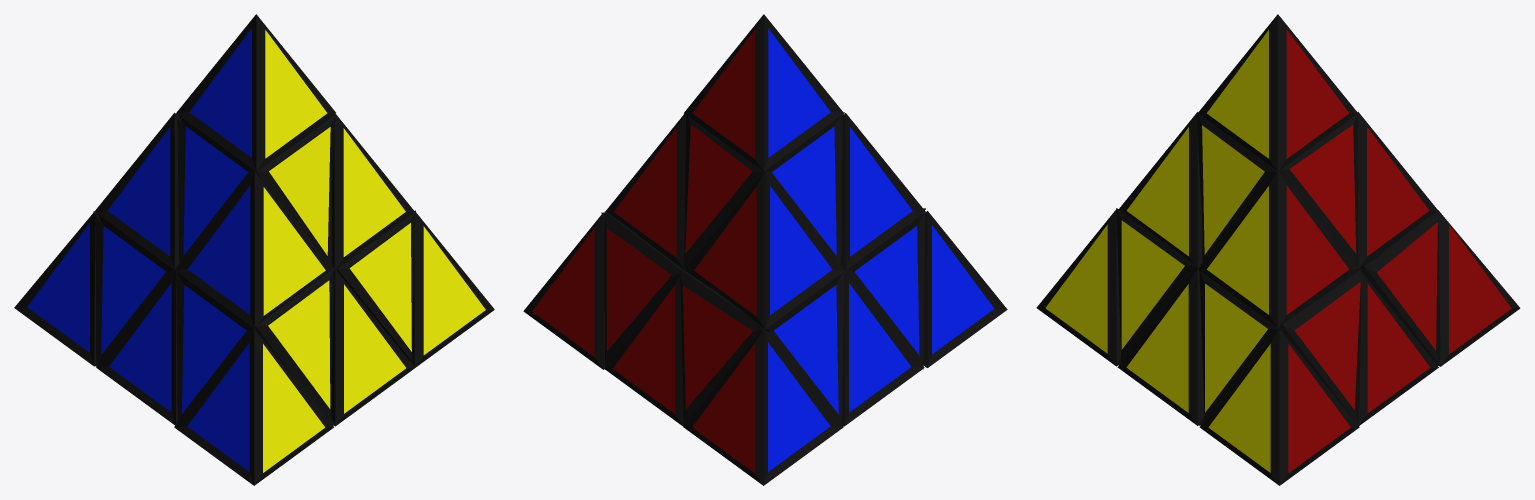
The model's file is 3x3Pyraminx.obj.
The picture shows the model from 3 angles, left to right: view 1: azimuth 30°, elevation 25°; view 2: azimuth 150°, elevation 25°; view 3: azimuth 270°, elevation 25°; orthographic projection.
Parts seen in each view (by area): view 1: BlueYellowGreen, RedBlueYellow, BlueYellow, BlueRed, YellowGreen, YellowRed, YellowRedGreen, BlueGreen, RedBlueGreen, YellowCenterL, BlueCenterL, YellowCenterR (+3 smaller); view 2: RedBlueGreen, RedBlueYellow, BlueRed, BlueYellow, BlueYellowGreen, RedCenterR, YellowRedGreen, BlueGreen, RedCenterL, YellowRed, RedCenter, BlueCenterR (+3 smaller); view 3: YellowRedGreen, RedBlueYellow, YellowRed, YellowGreen, BlueYellowGreen, RedCenterL, BlueYellow, RedCenterR, RedBlueGreen, BlueRed, YellowCenterL, RedCenter (+3 smaller).
Boxes of the visible parts, left/top/right/bottom form: BlueYellowGreen: left=174, top=328, right=333, bottom=485; RedBlueYellow: left=176, top=14, right=335, bottom=171; BlueYellow: left=175, top=171, right=332, bottom=328; BlueRed: left=94, top=113, right=179, bottom=269; YellowGreen: left=331, top=269, right=414, bottom=426; YellowRed: left=331, top=114, right=414, bottom=269; YellowRedGreen: left=411, top=211, right=494, bottom=367; BlueGreen: left=96, top=271, right=177, bottom=425; RedBlueGreen: left=14, top=212, right=96, bottom=366; YellowCenterL: left=254, top=268, right=334, bottom=421; BlueCenterL: left=95, top=214, right=174, bottom=366; YellowCenterR: left=336, top=210, right=415, bottom=361; RedBlueGreen: left=683, top=328, right=843, bottom=485; RedBlueYellow: left=684, top=14, right=843, bottom=171; BlueRed: left=685, top=171, right=845, bottom=328; BlueYellow: left=841, top=113, right=925, bottom=270; BlueYellowGreen: left=923, top=211, right=1007, bottom=367; RedCenterR: left=680, top=269, right=770, bottom=425; YellowRedGreen: left=523, top=212, right=604, bottom=369; BlueGreen: left=842, top=271, right=924, bottom=426; RedCenterL: left=604, top=212, right=689, bottom=366; YellowRed: left=605, top=114, right=685, bottom=270; RedCenter: left=684, top=115, right=768, bottom=268; BlueCenterR: left=845, top=212, right=925, bottom=369; YellowRedGreen: left=1199, top=328, right=1359, bottom=485; RedBlueYellow: left=1198, top=14, right=1357, bottom=171; YellowRed: left=1198, top=171, right=1357, bottom=327; YellowGreen: left=1117, top=268, right=1204, bottom=425; BlueYellowGreen: left=1036, top=209, right=1120, bottom=366; RedCenterL: left=1279, top=269, right=1361, bottom=425; BlueYellow: left=1119, top=112, right=1202, bottom=268; RedCenterR: left=1356, top=211, right=1440, bottom=366; RedBlueGreen: left=1437, top=210, right=1520, bottom=366; BlueRed: left=1357, top=111, right=1437, bottom=268; YellowCenterL: left=1116, top=208, right=1197, bottom=361; RedCenter: left=1275, top=113, right=1358, bottom=268.
Bounding box in the file's own units: 2.61 × 2.45 × 3.02.
